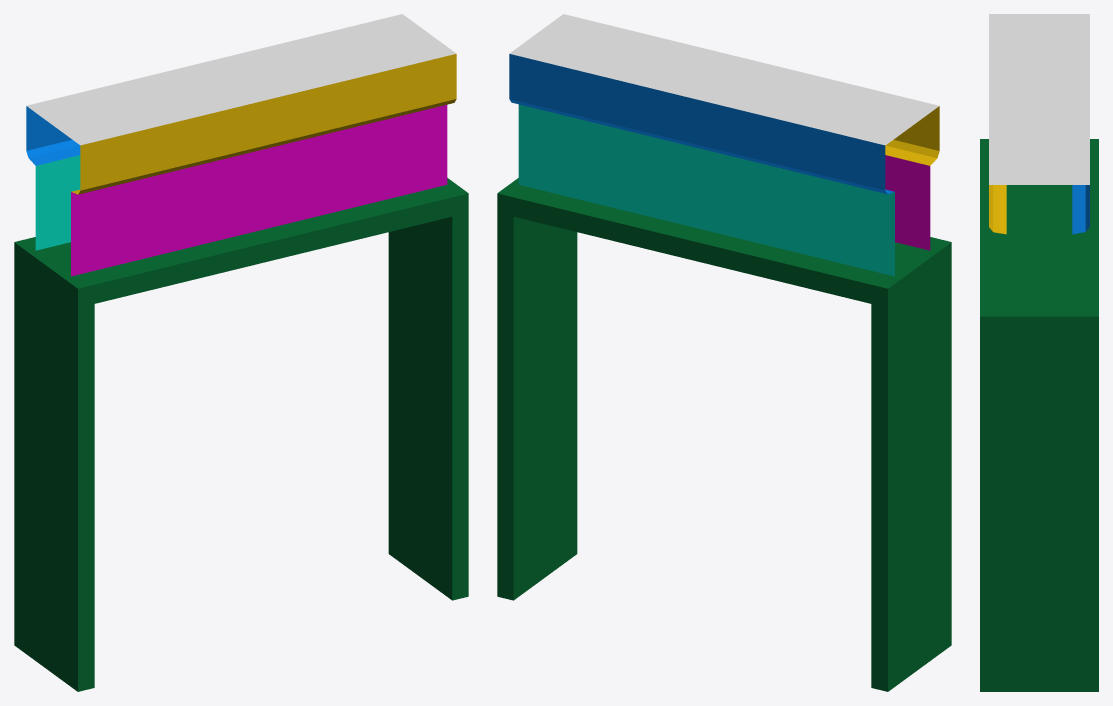
File: Wall_door.fbx
3 renders of one model, left to right at view 1: azimuth 30°, elevation 25°; view 2: azimuth 150°, elevation 25°; view 3: azimuth 270°, elevation 25°, orthographic. The views are drawn at different scales.
Visible parts, largest first — view 1: Door; view 2: Door; view 3: Door.
Part boxes in pixels (x1=…): Door: x1=14, y1=14, x2=468, y2=691; Door: x1=497, y1=14, x2=951, y2=691; Door: x1=980, y1=14, x2=1098, y2=691.
Bounding box in the file's own units: 208 × 275 × 58.73.
